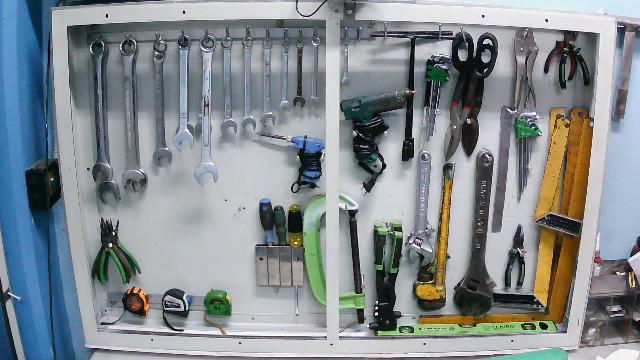meteran: (157, 288, 195, 333)
